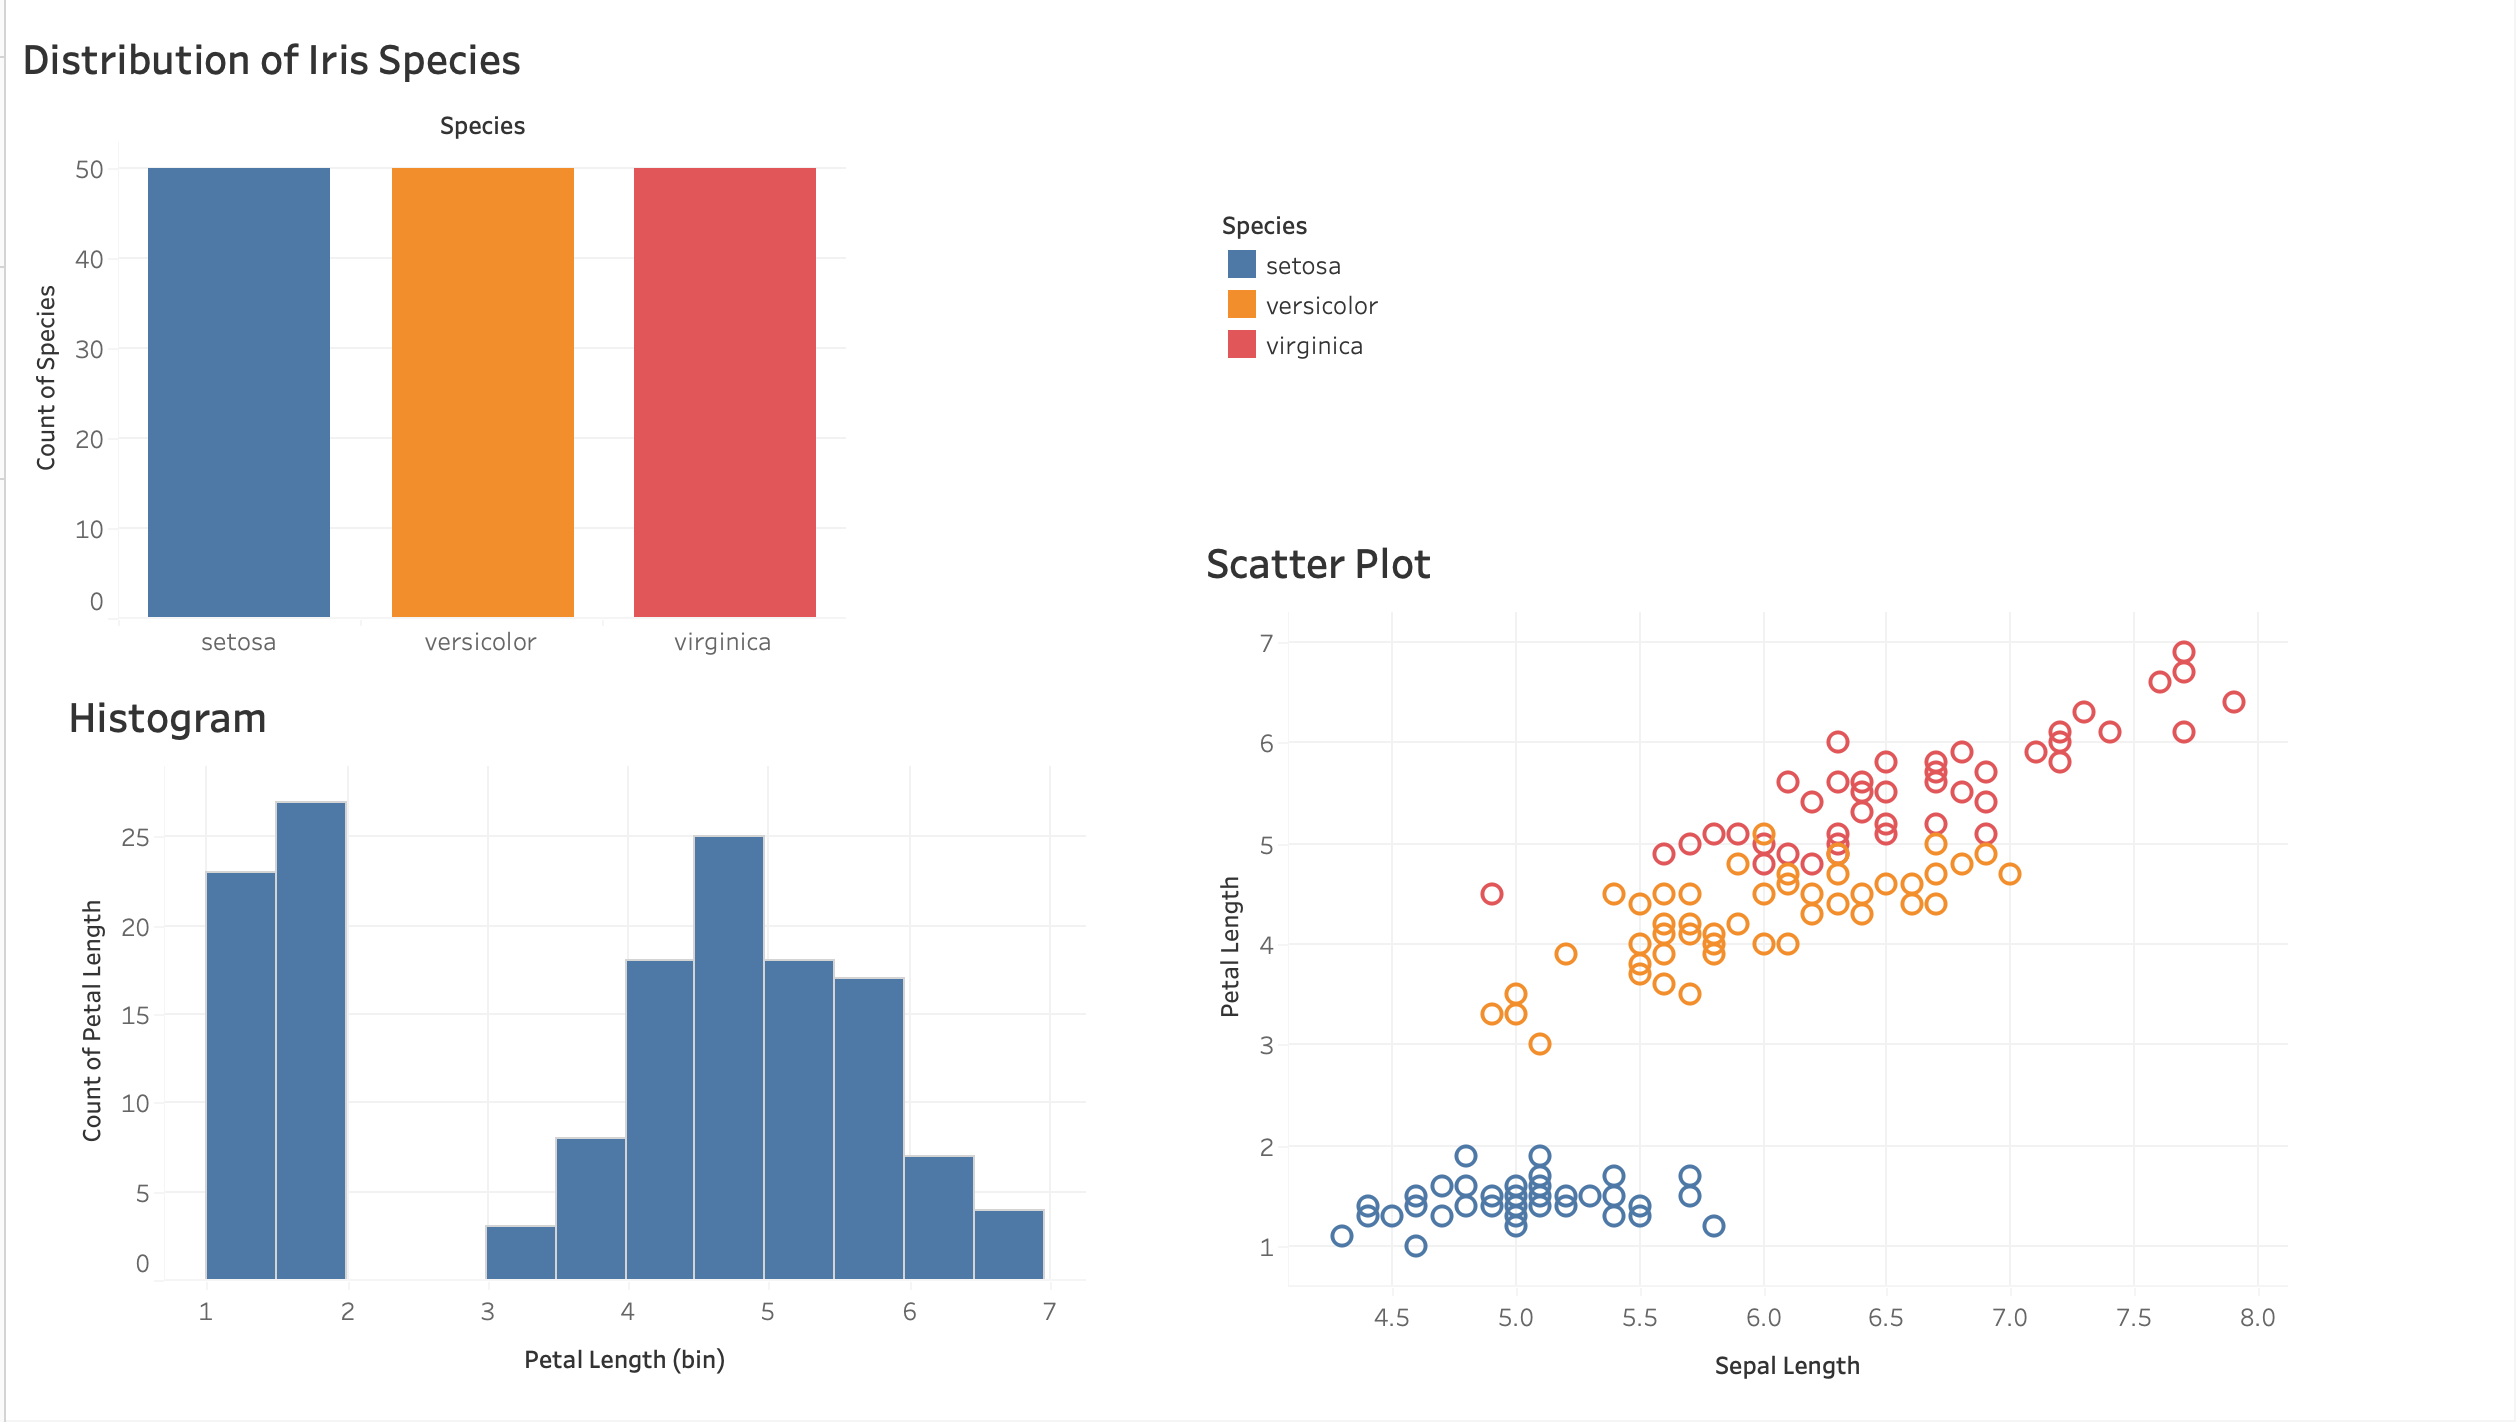

The dashboard page shown, as its layout file describes it:
{"tool":"tableau","page":{"name":"Dashboard 1","canvas":[1000,1000],"units":"permille","ordinal":0},"visuals":[{"type":"worksheet","title":"Species","mark":"Automatic","rows":["species"],"cols":["species"],"box":[2.8,16.9,332.1,448.7]},{"type":"legend","title":"Scatter Plot","param":"[federated.12djhex1qnz7yu11sifv40upk9ru].[none:species:nk]","box":[484.6,147.7,216.1,109.7]},{"type":"worksheet","title":"Scatter Plot","mark":"Automatic","rows":["petal_length"],"cols":["sepal_length"],"box":[475.2,371.3,435,611.8]},{"type":"worksheet","title":"Histogram","mark":"Automatic","rows":["petal_length"],"cols":["Petal Length (bin)"],"box":[21.5,479.6,408.8,499.3]}]}

Visuals, with their boxes on the dashboard's canvas, which has no fixed pixel size, in thousandths of its width and height (x1, y1, x2, y2). These are canvas units, not pixel positions in the 2516x1422 screenshot, which may show the page scaled, cropped or inside an application window:
"Species" worksheet: l=3, t=17, r=335, b=466
"Scatter Plot" legend: l=485, t=148, r=701, b=257
"Scatter Plot" worksheet: l=475, t=371, r=910, b=983
"Histogram" worksheet: l=22, t=480, r=430, b=979
